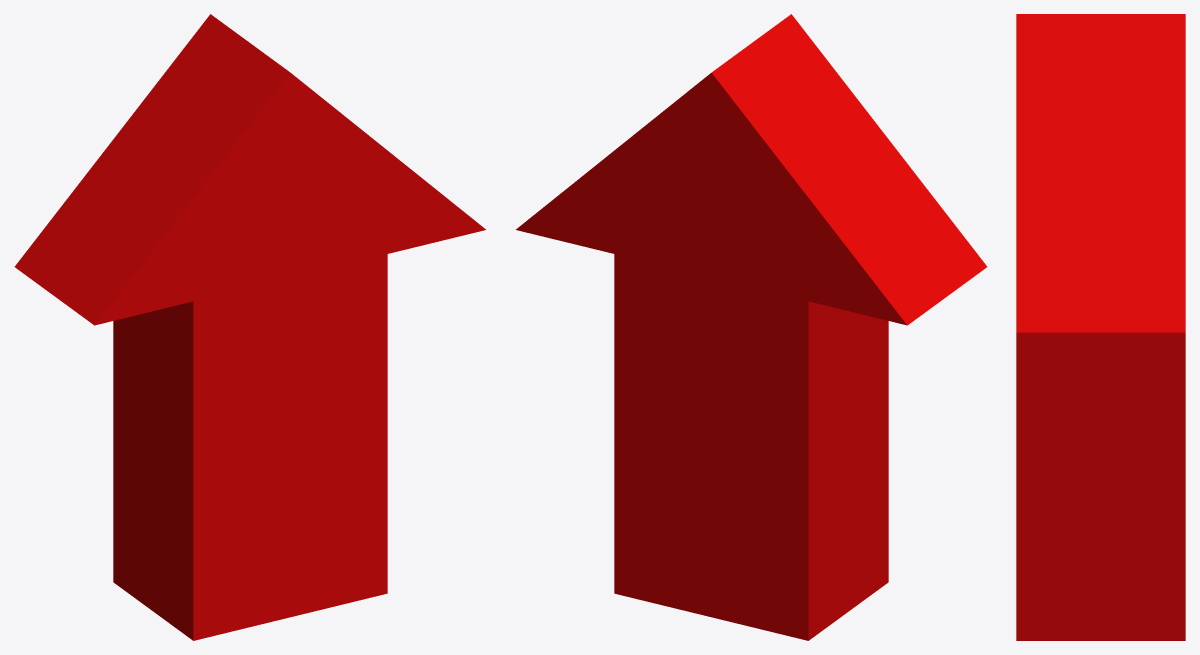
Rendered from yajirusi.fbx.
3 views of the same model, side by side, from view 1: azimuth 30°, elevation 25°; view 2: azimuth 150°, elevation 25°; view 3: azimuth 270°, elevation 25° (orthographic). The views are drawn at different scales.
Parts seen in each view (by area): view 1: pCube3; view 2: pCube3; view 3: pCube3.
Boxes of the visible parts, x1=… form: pCube3: x1=14, y1=14, x2=485, y2=640; pCube3: x1=516, y1=14, x2=987, y2=640; pCube3: x1=1016, y1=14, x2=1185, y2=640.
Size of the model in its own units: 1.41 by 1.88 by 0.5.
